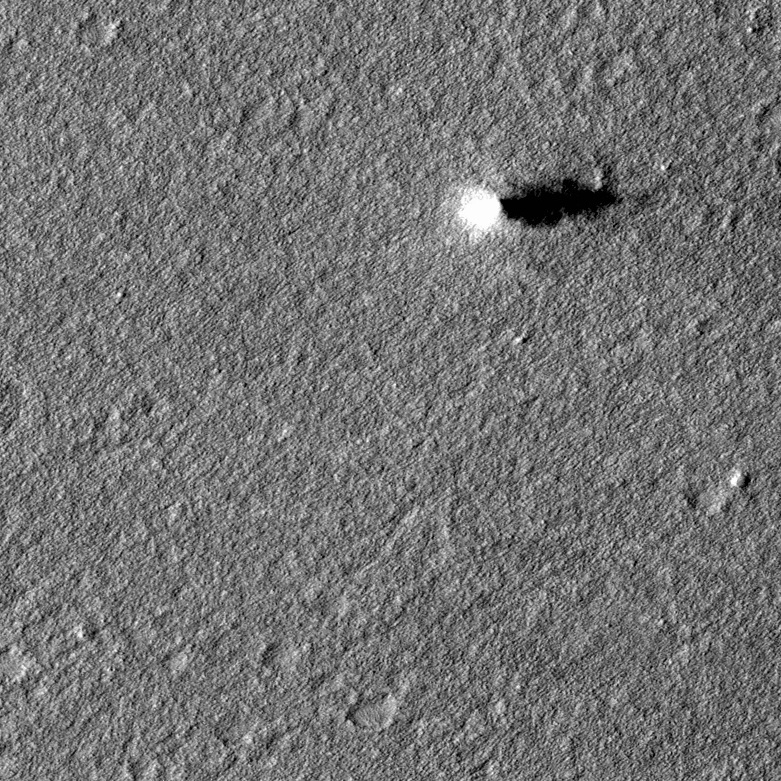dust_devil: (455, 174, 620, 237)
